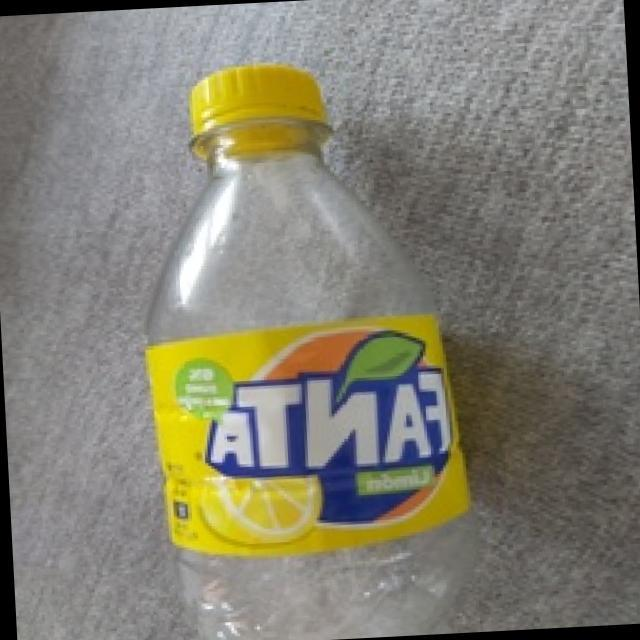good: (116, 24, 479, 640)
